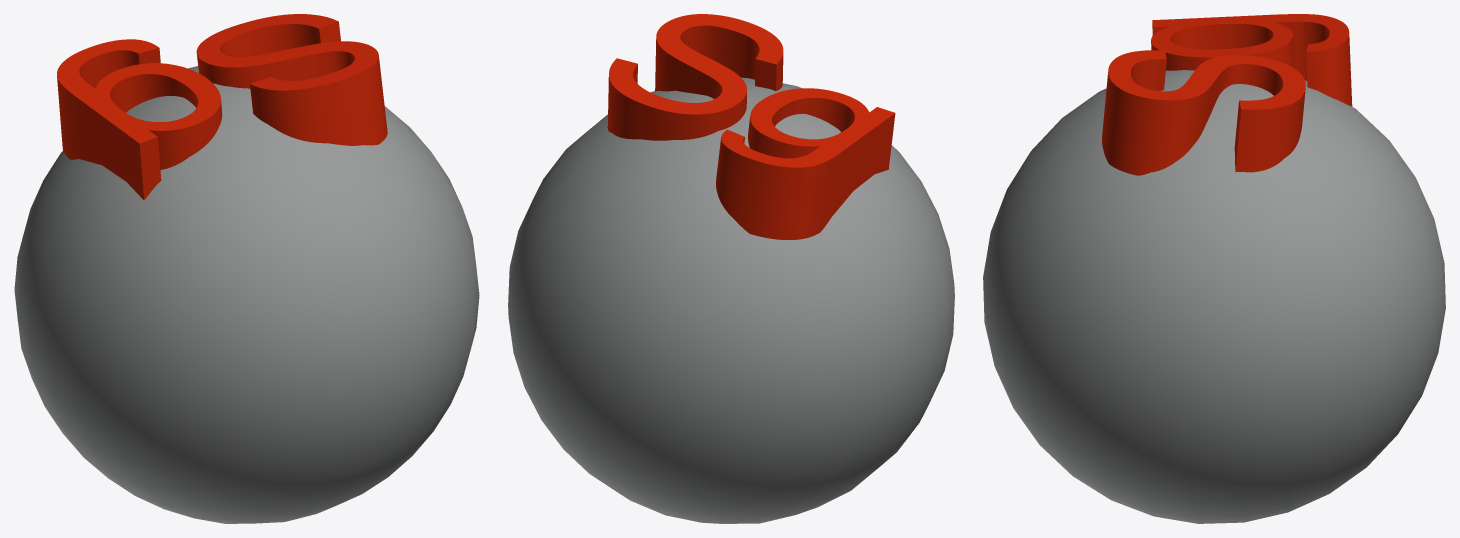
3 renders of one model, left to right at view 1: azimuth 30°, elevation 25°; view 2: azimuth 150°, elevation 25°; view 3: azimuth 270°, elevation 25°, orthographic. The views are drawn at different scales.
Visible parts, largest first — view 1: Hg, Object009; view 2: Hg, Object009; view 3: Hg, Object009.
Part boxes in pixels (box(x1,y1,x2,y2)): Hg: box(14, 39, 479, 523); Object009: box(196, 14, 387, 145); Hg: box(508, 77, 954, 523); Object009: box(607, 14, 783, 140); Hg: box(983, 14, 1445, 523); Object009: box(1102, 50, 1305, 175).
Size of the model in its own units: 38.61 by 41.61 by 38.66.
